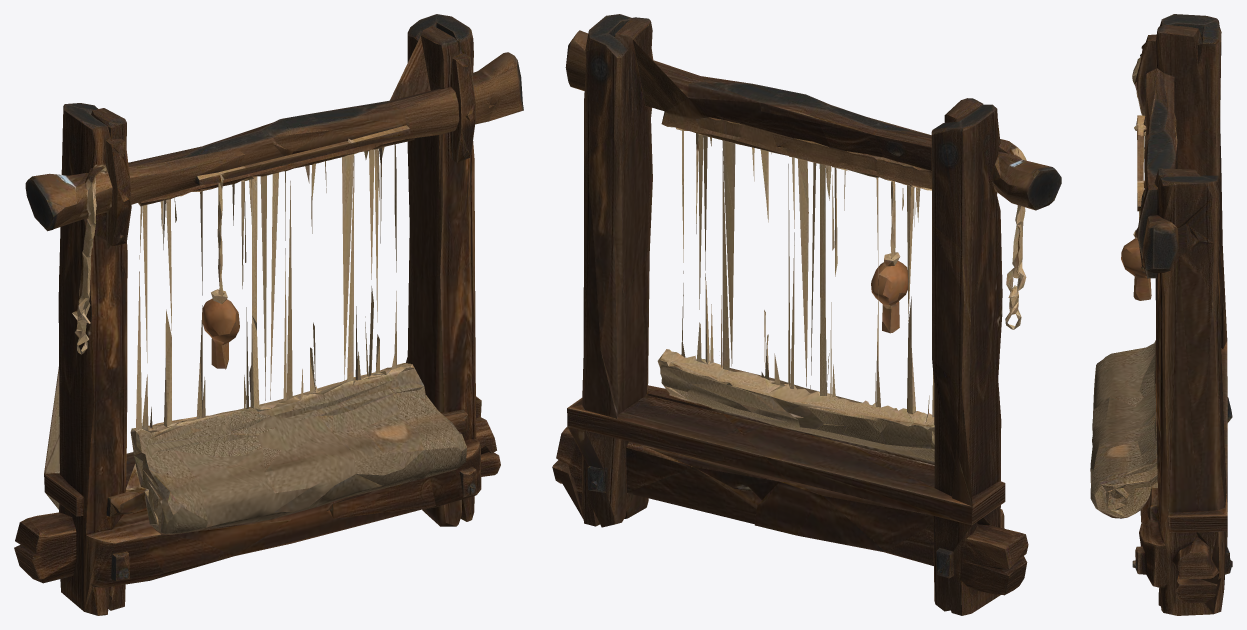
Rendered from loom.glb.
3 views of the same model, side by side, from view 1: azimuth 30°, elevation 25°; view 2: azimuth 150°, elevation 25°; view 3: azimuth 270°, elevation 25° (orthographic). The views are drawn at different scales.
Parts seen in each view (by area): view 1: loom; view 2: loom; view 3: loom.
Part boxes in pixels (x1,y1,x2,y2): loom: (14, 14, 523, 615); loom: (552, 14, 1061, 615); loom: (1090, 14, 1232, 615).
Bounding box in the file's own units: 1.95 × 1.9 × 0.5651.
Materials: 1 (1 with a texture image).
